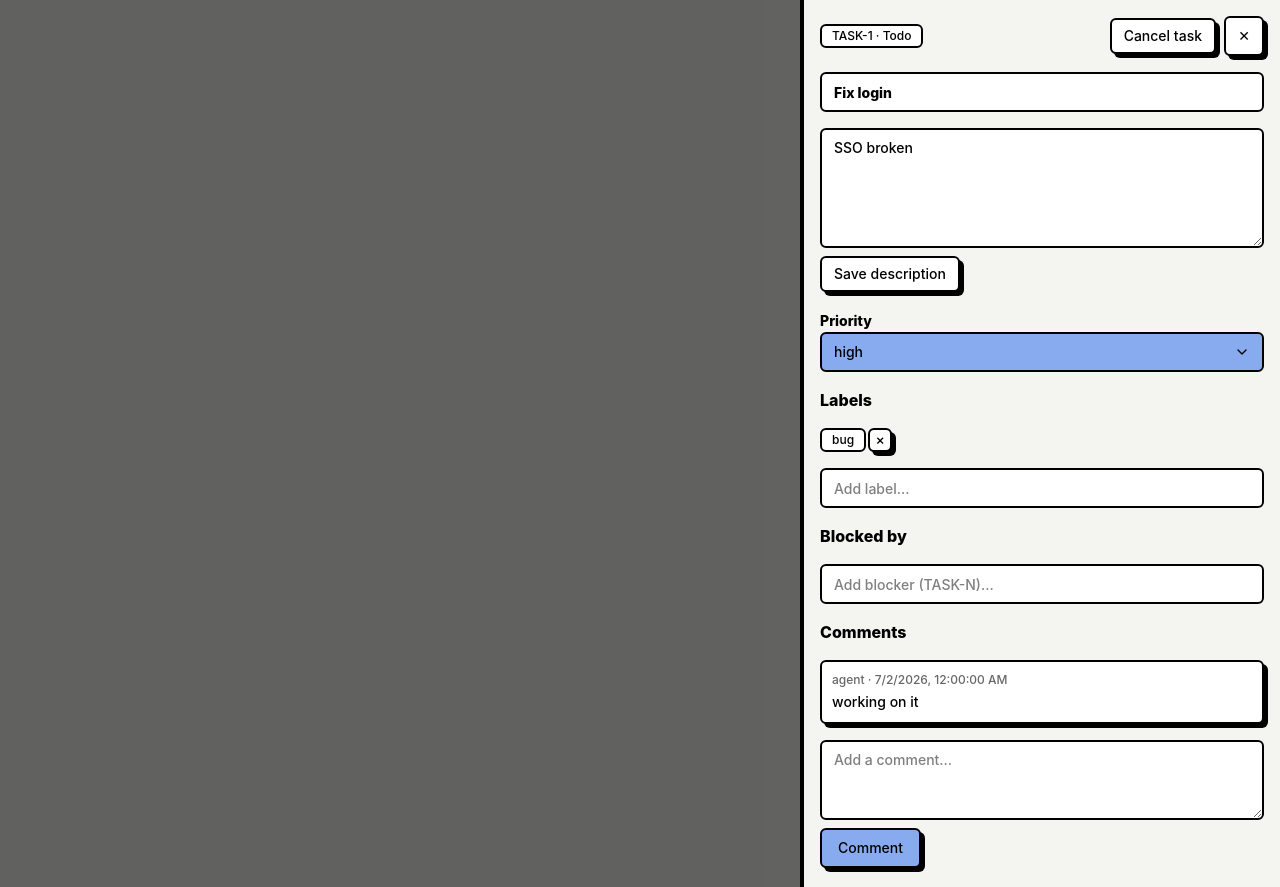
TaskDetailPanel › keeps in-progress typing when a background refetch changes the task
Type " EXTRA" into the field named "Title" at (1042,92), box [820, 72, 1264, 112]
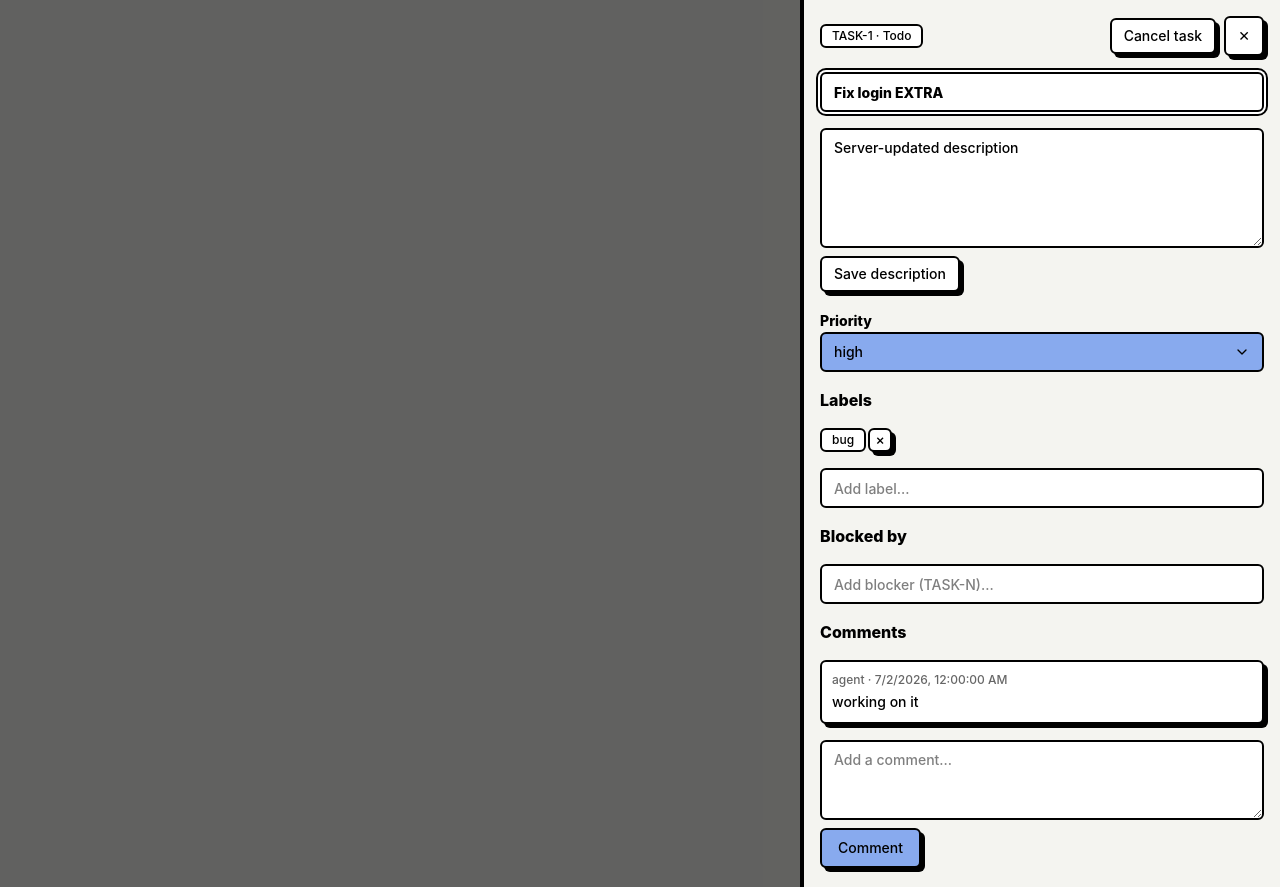
Expected: the text box named "Description" holds "Server-updated description", [820, 128, 1264, 248]
Expected: the field named "Title" holds "Fix login EXTRA", [820, 72, 1264, 112]
